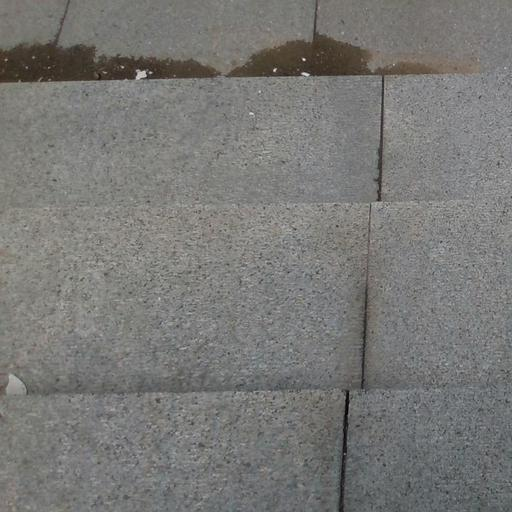stairs: (0, 75, 511, 511), (0, 391, 344, 511)
